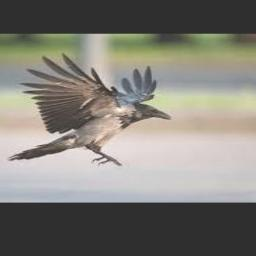Crow: (6, 53, 170, 166)
